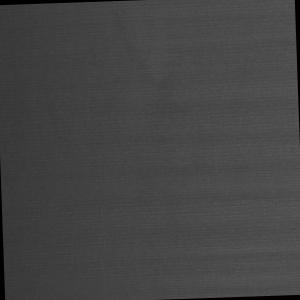Wrinkle: (61, 84, 300, 300)
